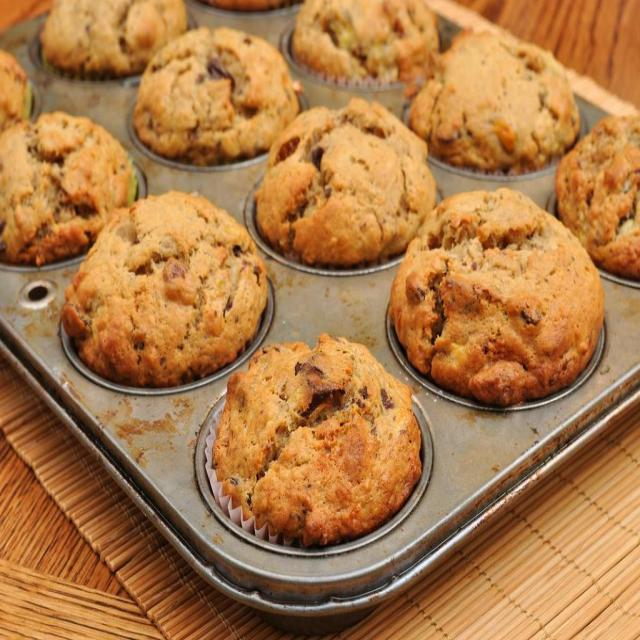Cookie: (388, 186, 606, 410), (207, 331, 423, 549), (57, 186, 267, 388), (252, 94, 436, 262), (408, 19, 583, 179), (133, 24, 303, 162), (0, 104, 138, 265), (552, 109, 640, 275), (289, 0, 439, 86), (37, 0, 190, 74), (0, 48, 34, 127)
